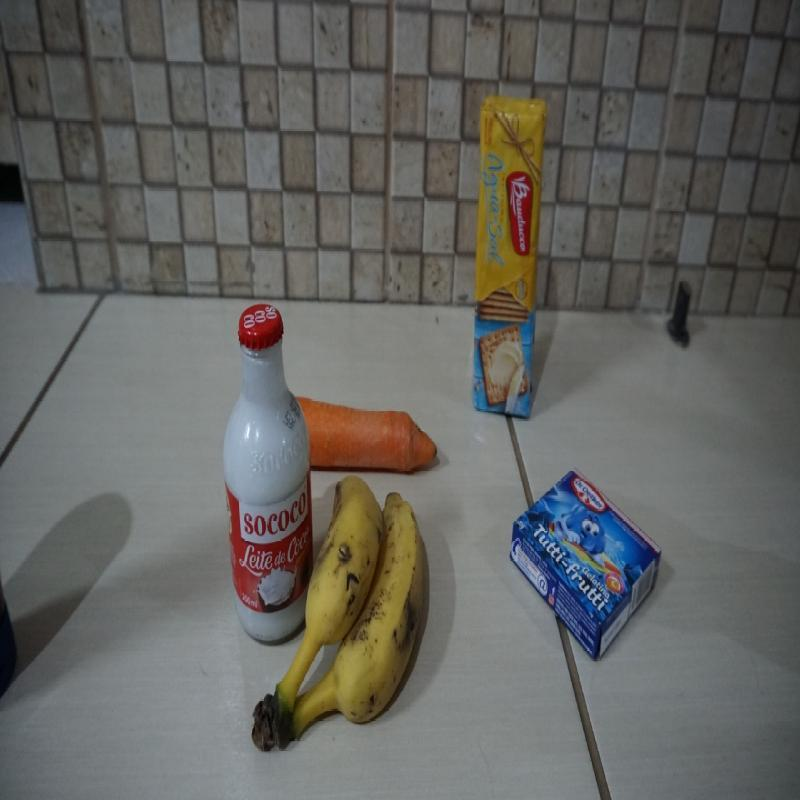Banana: (252, 478, 432, 754)
Carrot: (295, 394, 439, 475)
Coconut Milk: (223, 301, 315, 644)
Cracker: (473, 96, 548, 420)
Gelatine: (508, 465, 662, 666)
